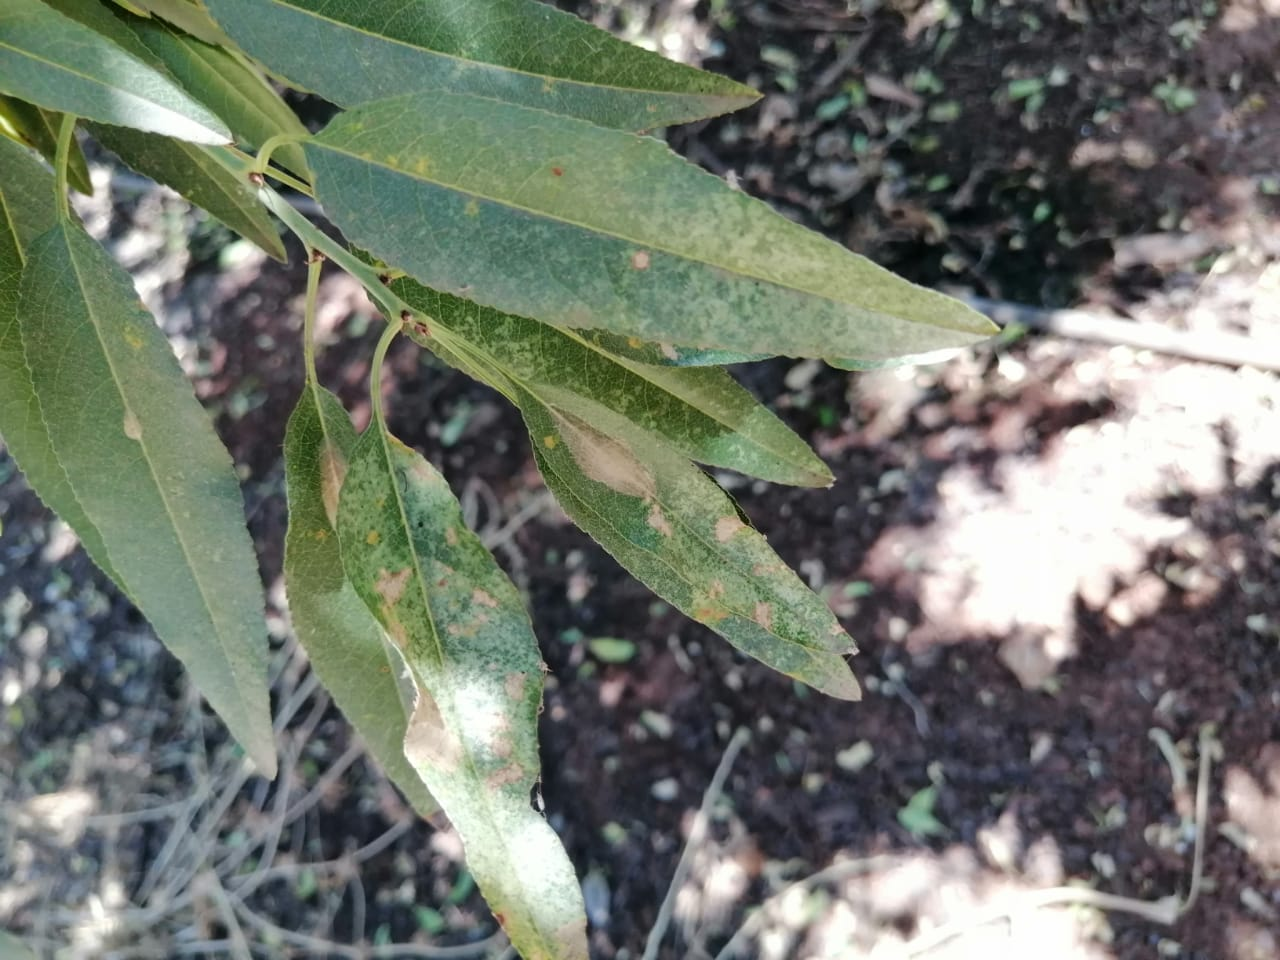faux tigre: (303, 88, 1005, 370), (333, 409, 588, 960), (512, 375, 858, 655)
